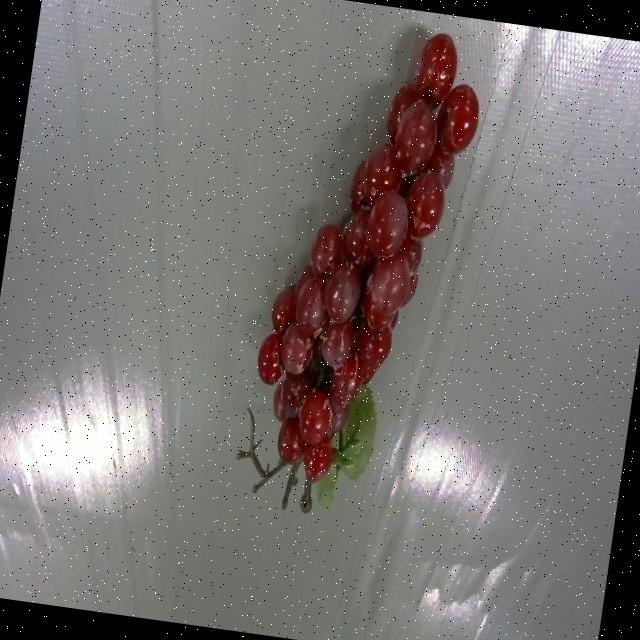grape: (236, 35, 479, 512)
